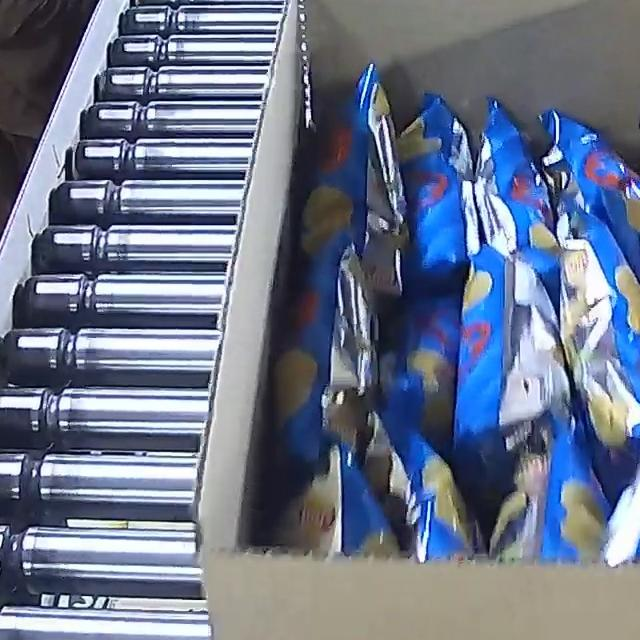paprika: (258, 57, 640, 567)
